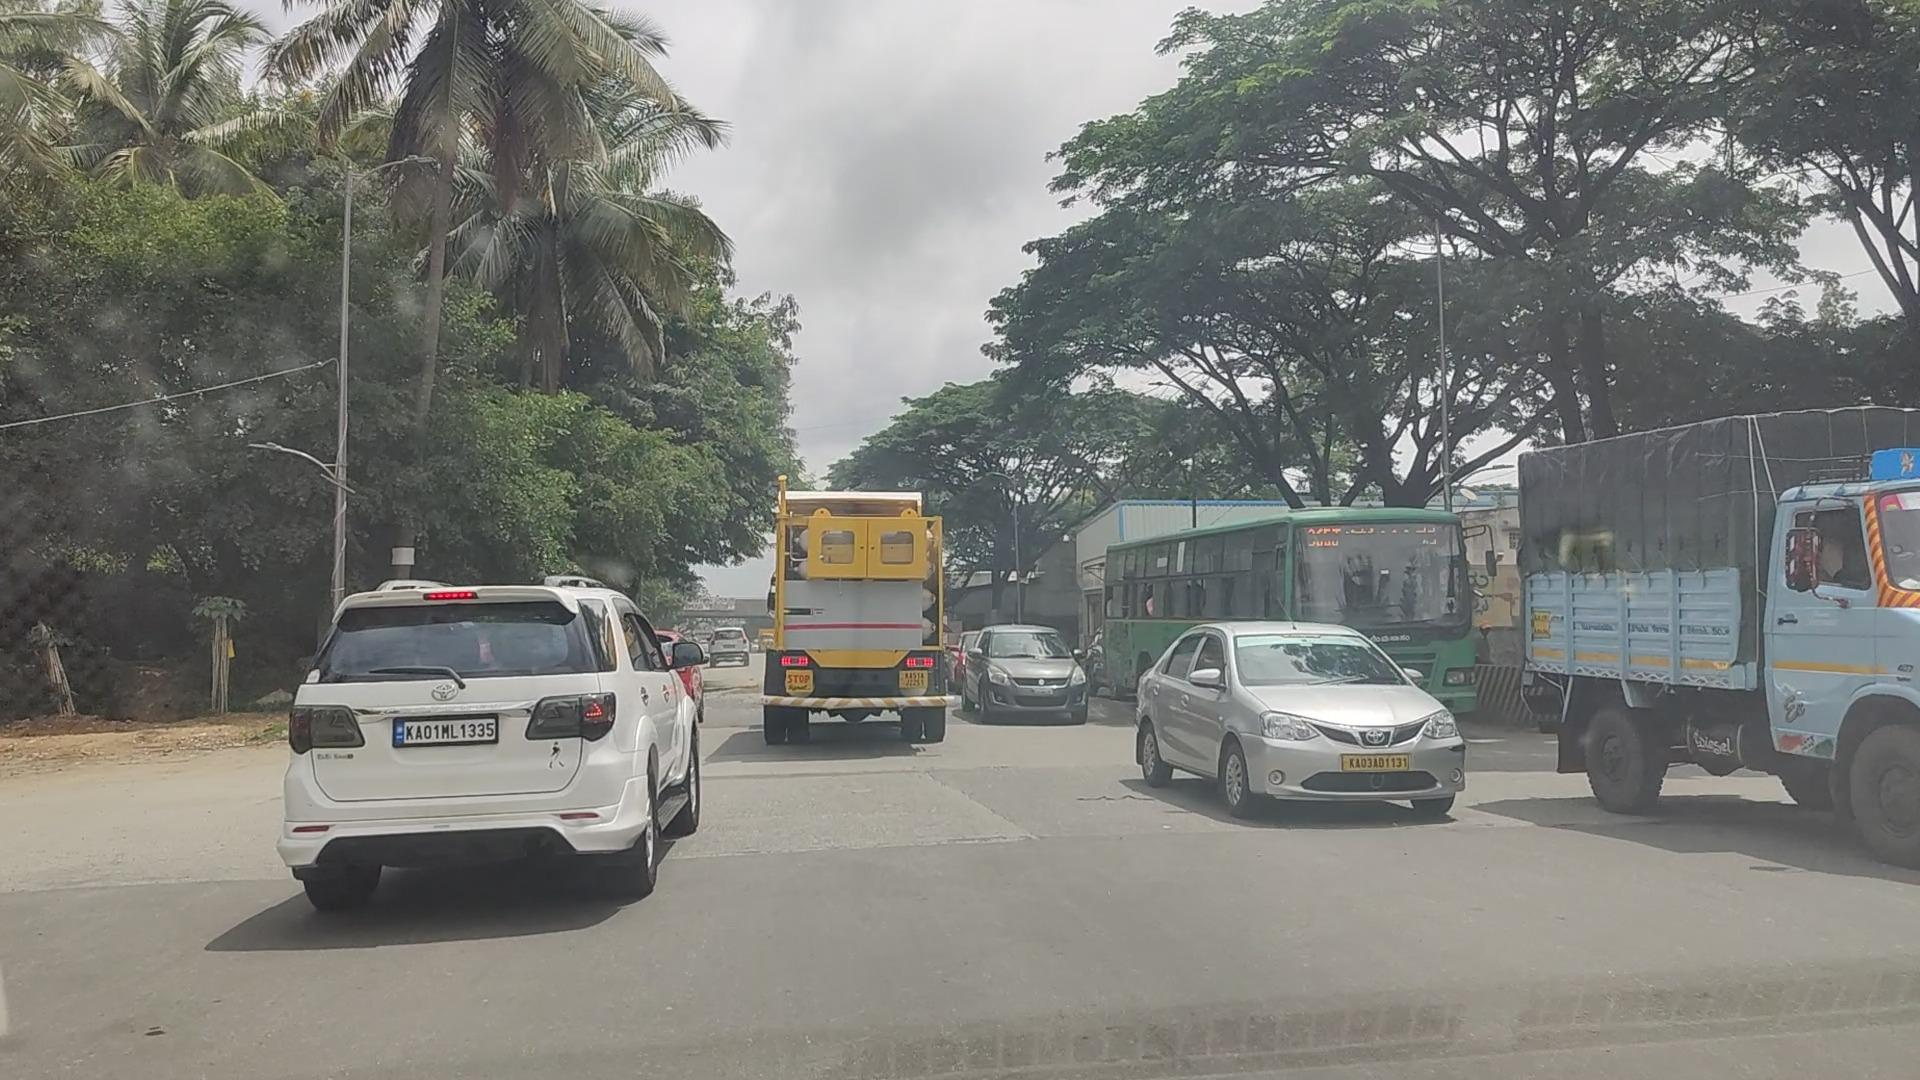HMV: (760, 491, 939, 728)
LMV: (277, 584, 686, 885)
RoadDamages: (690, 814, 1050, 874), (0, 856, 281, 910)
